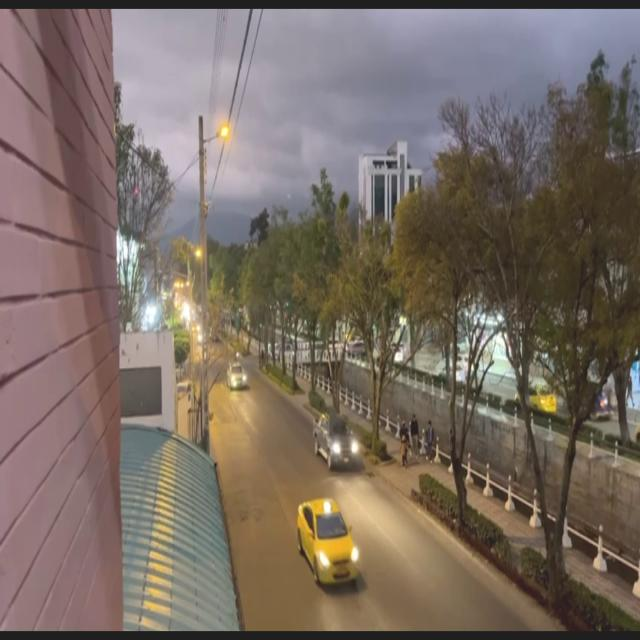CMT: (313, 411, 360, 471)
SED: (297, 500, 359, 586)
